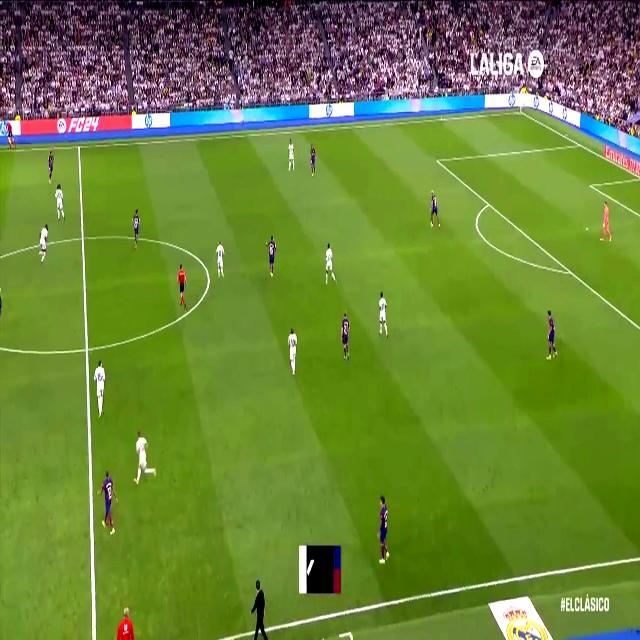bigarea_top_inner: (434, 153, 441, 167)
bigarea_top_outter: (574, 136, 582, 149)
bottom_arc_area_intersection: (566, 262, 574, 280)
corner: (517, 107, 524, 116)
halfcircle_bottom: (81, 335, 92, 362)
halfcircle_top: (77, 226, 88, 248)
midline_top_intersection: (76, 140, 82, 153)
smallarea_top_inner: (587, 178, 594, 192)
top_arc_area_intersection: (485, 196, 492, 210)
